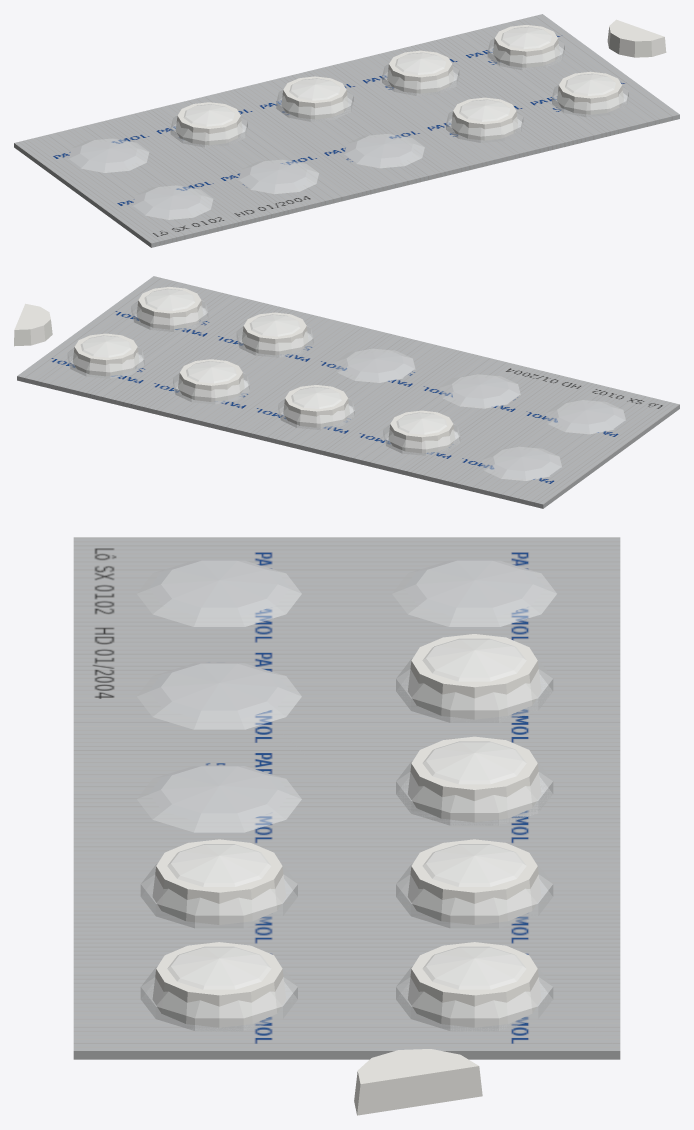
The model's file is ViThuoc_HaSot.glb.
The picture shows the model from 3 angles, top to bottom: view 1: azimuth 30°, elevation 25°; view 2: azimuth 150°, elevation 25°; view 3: azimuth 270°, elevation 25°; orthographic projection. The views are drawn at different scales.
Parts seen in each view (by area): view 1: Vi_Nen, Vien_11, Vien_21, Vien_40, Vien_31, Vien_30, Vien_41, Vi_BotBep_01, Vi_BotBep_10, Vi_BotBep_00, Vi_BotBep_20, Vi_Bot_11 (+10 smaller); view 2: Vi_Nen, Vien_31, Vien_41, Vien_21, Vien_11, Vien_30, Vien_40, Vi_BotBep_20, Vi_BotBep_00, Vi_BotBep_01, Vi_BotBep_10, Vi_Bot_41 (+10 smaller); view 3: Vi_Nen, Vien_30, Vien_31, Vien_40, Vien_41, Vien_11, Vien_21, Vi_BotBep_20, Vi_BotBep_10, Vi_BotBep_01, Vi_BotBep_00, Vi_Bot_41 (+10 smaller).
Part boxes in pixels (x1,y1,x2,y2): Vi_Nen: (14, 14, 679, 247); Vien_11: (175, 102, 242, 145); Vien_21: (281, 76, 348, 119); Vien_40: (557, 71, 623, 114); Vien_31: (387, 50, 453, 93); Vien_30: (451, 97, 518, 140); Vien_41: (493, 25, 559, 67); Vi_BotBep_01: (68, 138, 149, 172); Vi_BotBep_10: (238, 159, 318, 193); Vi_BotBep_00: (132, 185, 212, 219); Vi_BotBep_20: (344, 133, 424, 168); Vi_Bot_11: (170, 104, 247, 147); Vi_Nen: (17, 276, 679, 508); Vien_31: (178, 359, 244, 401); Vien_41: (72, 333, 139, 376); Vien_21: (283, 385, 349, 427); Vien_11: (388, 410, 454, 453); Vien_30: (242, 312, 308, 355); Vien_40: (136, 287, 203, 329); Vi_BotBep_20: (335, 348, 415, 382); Vi_BotBep_00: (545, 399, 625, 434); Vi_BotBep_01: (481, 446, 561, 480); Vi_BotBep_10: (440, 374, 520, 408); Vi_Bot_41: (67, 335, 144, 378); Vi_Nen: (73, 537, 620, 1059); Vien_30: (152, 839, 285, 924); Vien_31: (408, 839, 541, 924); Vien_40: (152, 942, 285, 1027); Vien_41: (408, 942, 541, 1027); Vien_11: (408, 634, 541, 719); Vien_21: (408, 736, 541, 822); Vi_BotBep_20: (137, 766, 301, 832); Vi_BotBep_10: (137, 663, 301, 729); Vi_BotBep_01: (392, 560, 556, 626); Vi_BotBep_00: (137, 560, 301, 626); Vi_Bot_41: (396, 946, 553, 1031).
Bounding box in the file's own units: 0.1109 × 0.00496 × 0.045.
Materials: 4 (1 with a texture image).
